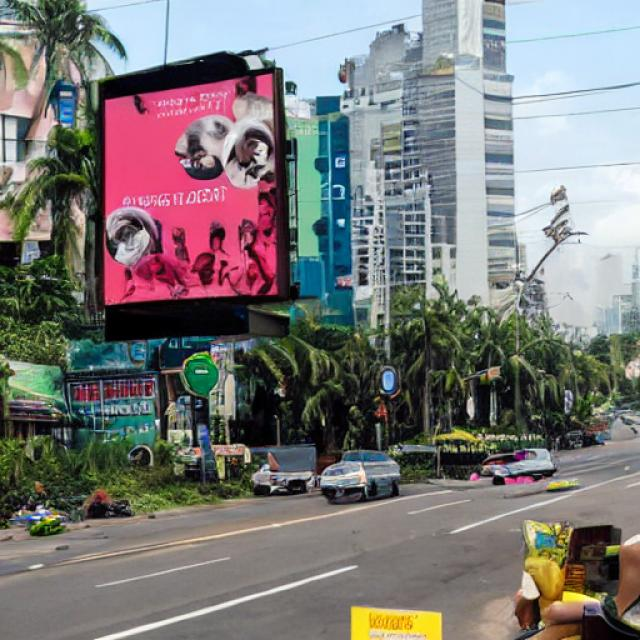Billboard: (92, 65, 288, 309)
